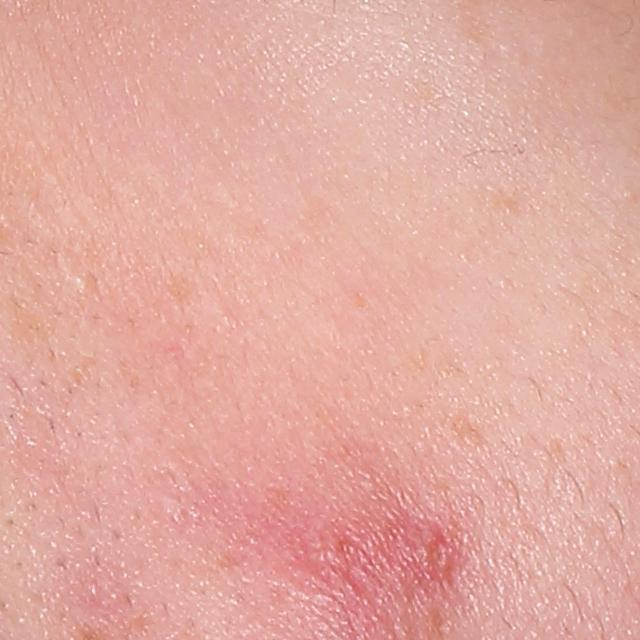comedo: (71, 272, 90, 289)
